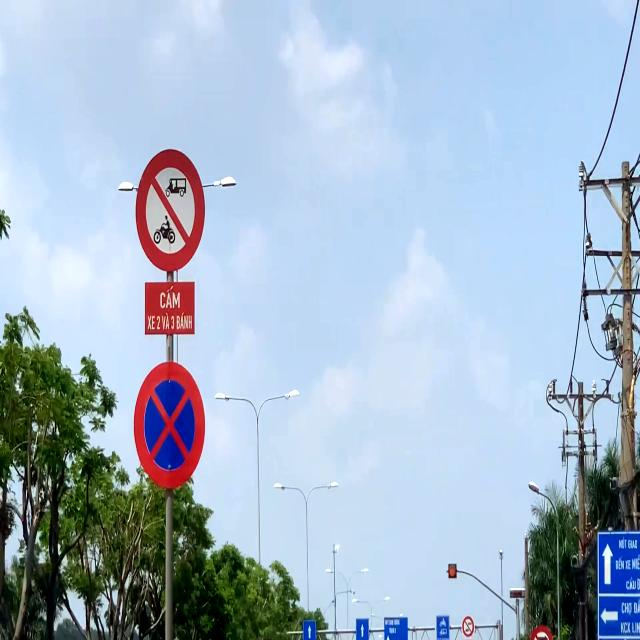P.130: (133, 362, 206, 489)
